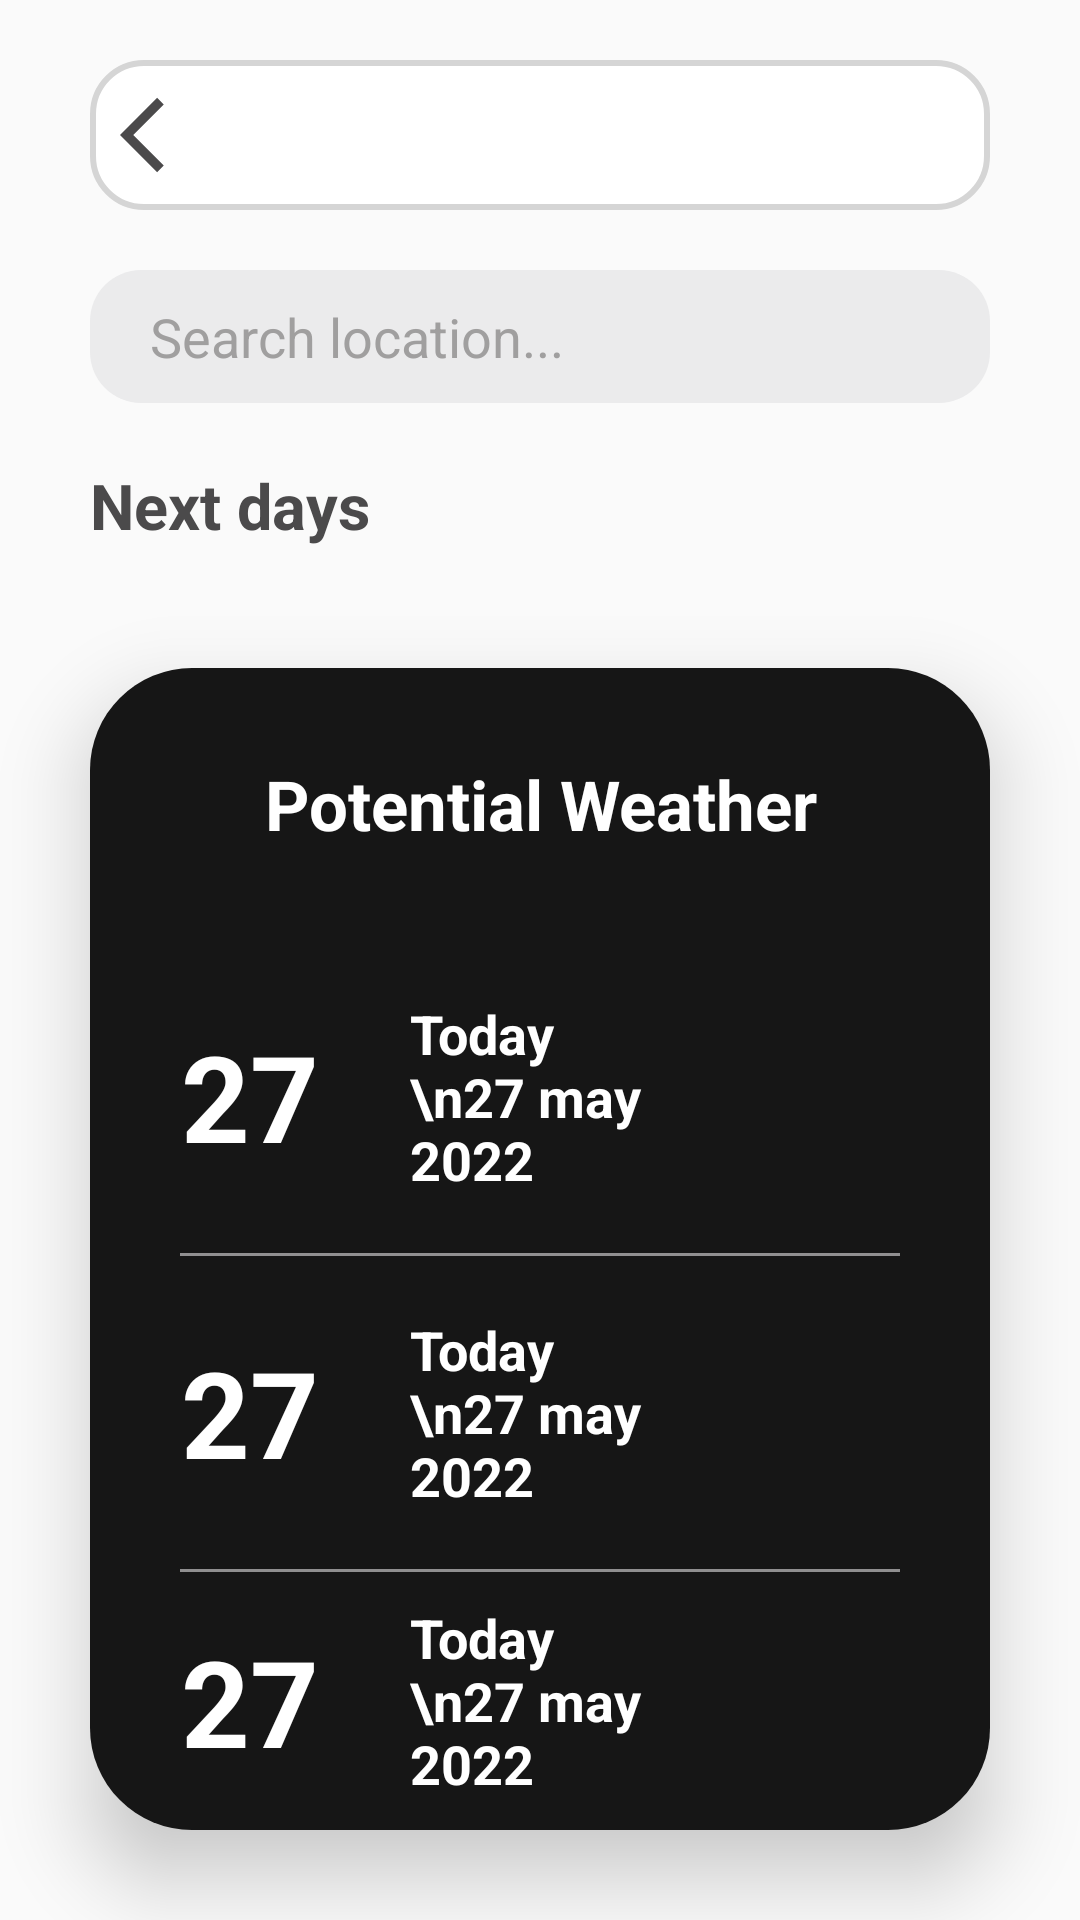

Icon click points for this 1080*1920 phone screenshot, format [x,y]:
arrow back: [165,135]
